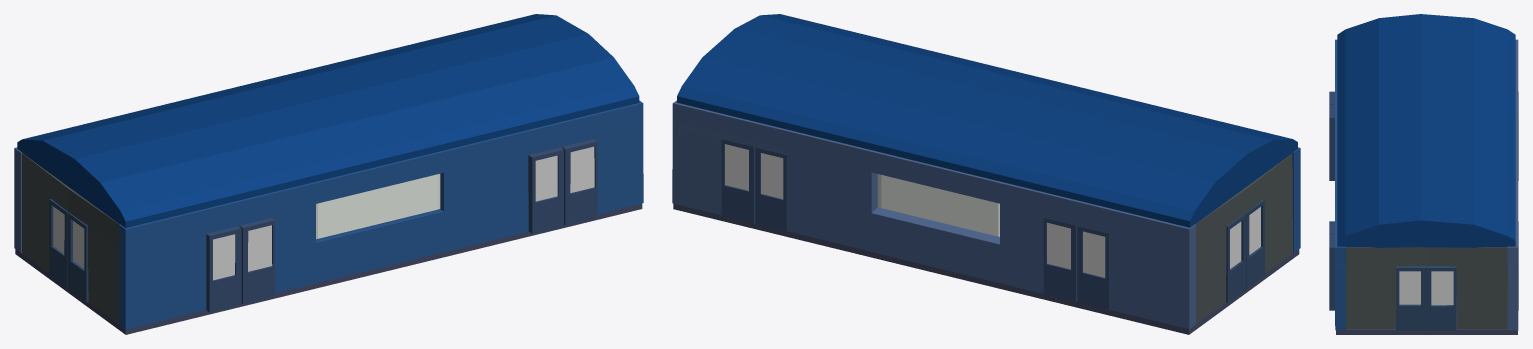
File: Train.fbx
3 renders of one model, left to right at view 1: azimuth 30°, elevation 25°; view 2: azimuth 150°, elevation 25°; view 3: azimuth 270°, elevation 25°, orthographic. The views are drawn at different scales.
Visible parts, largest first — view 1: Atap, Tembok.004, Tembok.003, Pintu.007, Pintu.006, Jendela.001, Lantai, Pintu.003, Pintu.004, Tembok, Kaca.002, Kaca.003; view 2: Atap, Tembok, Tembok.003, Pintu.005, Pintu, Jendela, Lantai, Pintu.004, Pintu.003, Tembok.004, Kaca.002, Kaca.003; view 3: Atap, Tembok.2, Tembok, Tembok.004, Pintu.1, Pintu.002, Lantai, Kaca.001, Kaca, Pintu.006, Pintu.007.
Boxes of the visible parts, x1,y1,x2,y2 form: Atap: [17, 14, 639, 227]; Tembok.004: [119, 100, 643, 329]; Tembok.003: [22, 153, 119, 323]; Pintu.007: [528, 139, 597, 233]; Pintu.006: [206, 218, 274, 312]; Jendela.001: [316, 174, 440, 239]; Lantai: [15, 203, 642, 334]; Pintu.003: [68, 212, 88, 302]; Pintu.004: [49, 199, 68, 288]; Tembok: [14, 147, 22, 252]; Kaca.002: [73, 221, 84, 268]; Kaca.003: [53, 206, 64, 253]; Atap: [677, 14, 1297, 227]; Tembok: [672, 100, 1195, 329]; Tembok.003: [1196, 154, 1292, 323]; Pintu.005: [721, 139, 787, 231]; Pintu: [1043, 218, 1109, 309]; Jendela: [877, 174, 999, 236]; Lantai: [673, 203, 1299, 334]; Pintu.004: [1226, 213, 1246, 302]; Pintu.003: [1245, 199, 1264, 289]; Tembok.004: [1292, 147, 1300, 252]; Kaca.002: [1249, 207, 1260, 254]; Kaca.003: [1230, 221, 1241, 268]; Atap: [1337, 14, 1515, 247]; Tembok.2: [1346, 247, 1507, 329]; Tembok: [1507, 39, 1518, 330]; Tembok.004: [1335, 39, 1345, 330]; Pintu.1: [1396, 266, 1426, 330]; Pintu.002: [1426, 266, 1456, 330]; Lantai: [1336, 294, 1517, 334]; Kaca.001: [1431, 271, 1453, 305]; Kaca: [1399, 271, 1420, 304]; Pintu.006: [1329, 91, 1334, 180]; Pintu.007: [1329, 221, 1334, 310].
Bounding box in the file's own units: 2990 × 1142 × 757.
